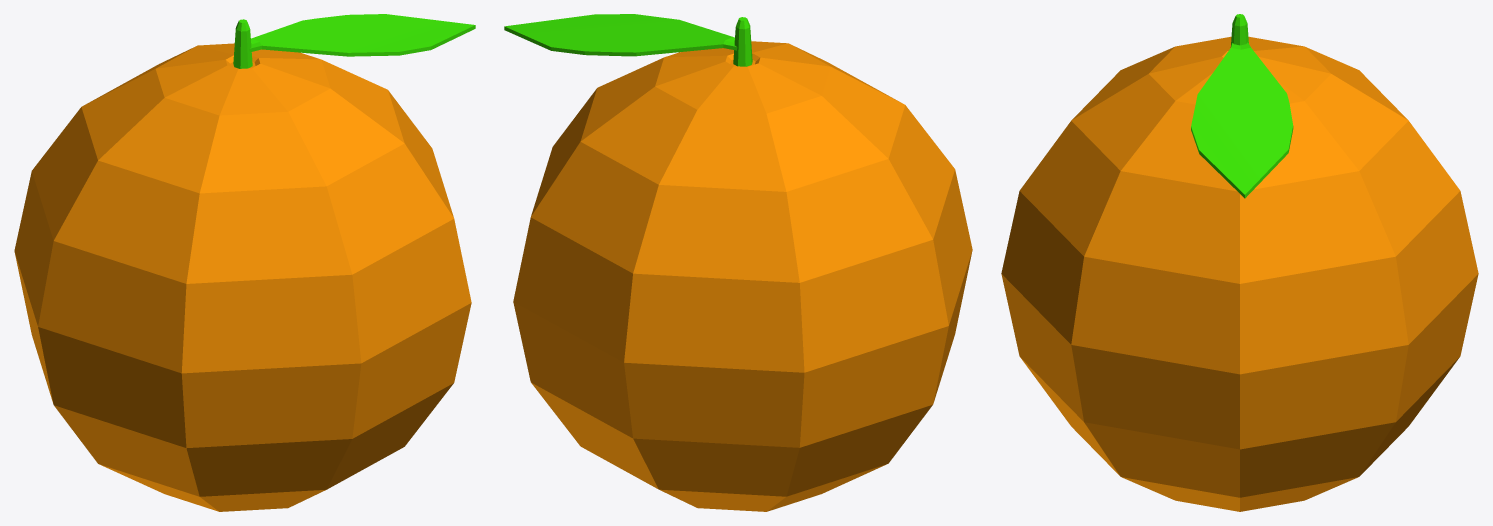
Rendered from orange.fbx.
3 views of the same model, side by side, from view 1: azimuth 30°, elevation 25°; view 2: azimuth 150°, elevation 25°; view 3: azimuth 270°, elevation 25° (orthographic).
Visible parts, largest first — view 1: Sphere, Plane; view 2: Sphere, Plane; view 3: Sphere, Plane.
Part boxes in pixels (x1,y1,x2,y2): Sphere: (14, 19, 471, 511); Plane: (249, 14, 475, 56); Sphere: (513, 17, 972, 511); Plane: (504, 14, 737, 56); Sphere: (1001, 14, 1478, 511); Plane: (1191, 42, 1293, 198).
Bounding box in the file's own units: 51.16 × 52.23 × 47.66.
3 materials, 3 textured.
